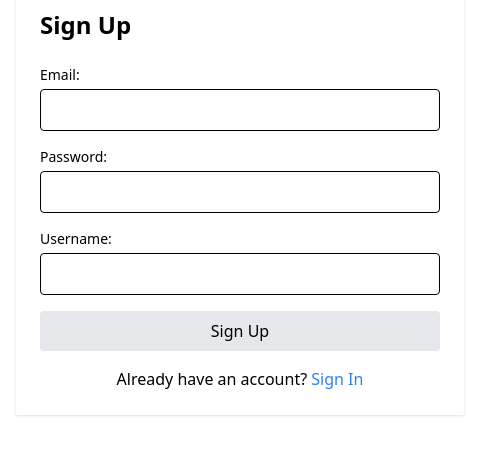
Test case: @pages/SignUp › displays an error message and logs error on sign up failure
Step 1. Type "fail@example.com" into the field labelled "Email:" → (240, 110), box x1=40 y1=89 x2=440 y2=131
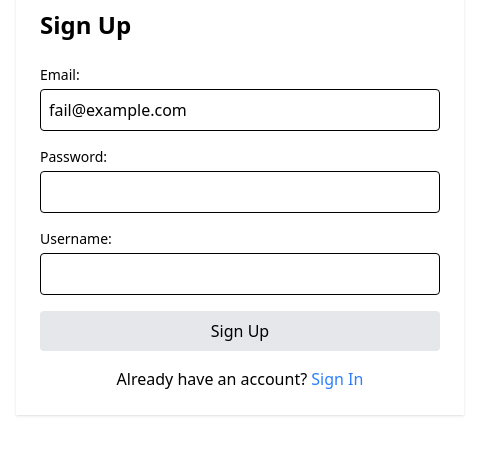
Step 2. Type "failpassword" into the password field labelled "Password:" → (240, 192), box x1=40 y1=171 x2=440 y2=213
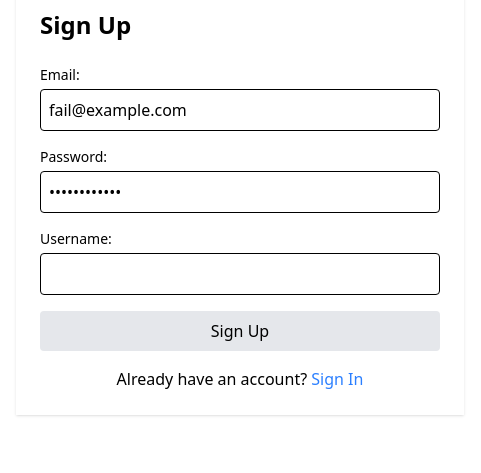
Step 3. Type "FailUser" into the field labelled "Username:" → (240, 274), box x1=40 y1=253 x2=440 y2=295
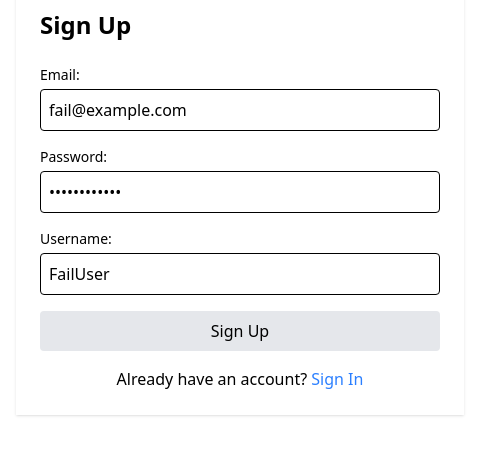
Step 4. Submit the form labelled "Email:", box x1=40 y1=65 x2=440 y2=351
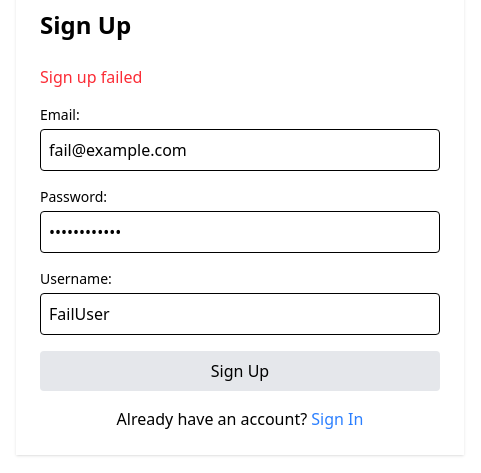
Expected: the text "Sign up failed" is shown, x1=40 y1=66 x2=142 y2=88
